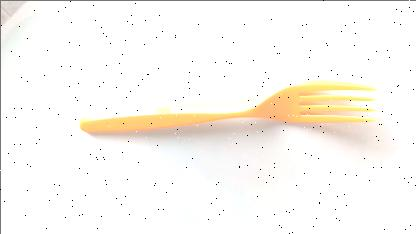Others: (75, 78, 375, 136)
